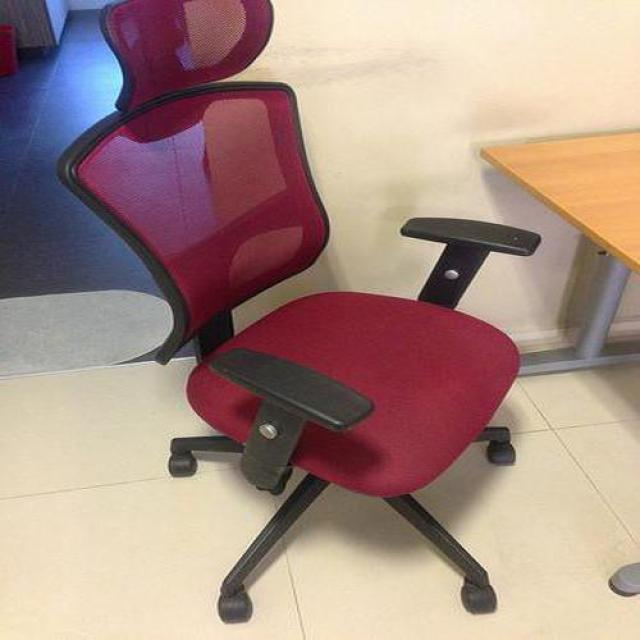swivelchair: (56, 82, 543, 627)
